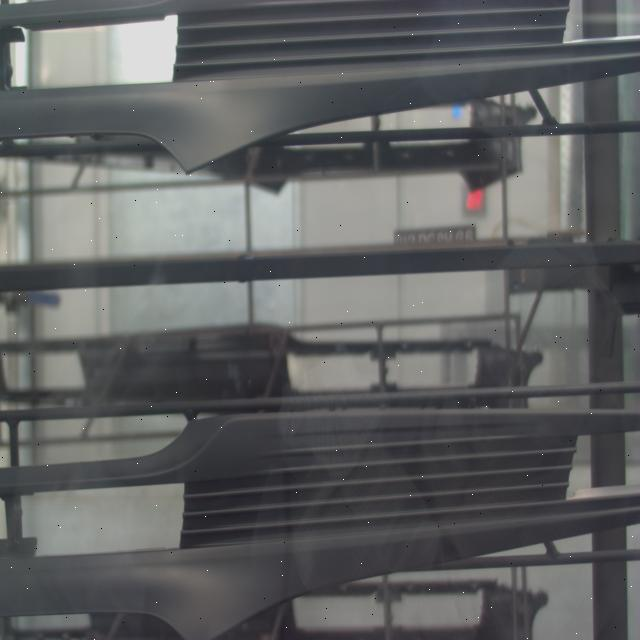Primered: (0, 404, 638, 639), (0, 5, 638, 175)
